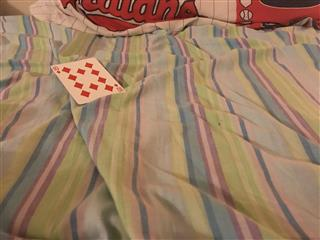TenOfDiamonds: (49, 56, 126, 104)
